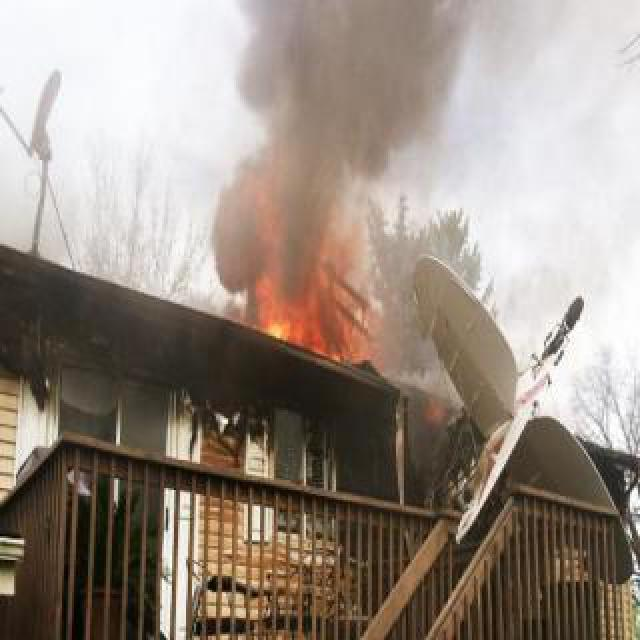Fire: (240, 296, 358, 362)
Smoke: (202, 4, 462, 296)
